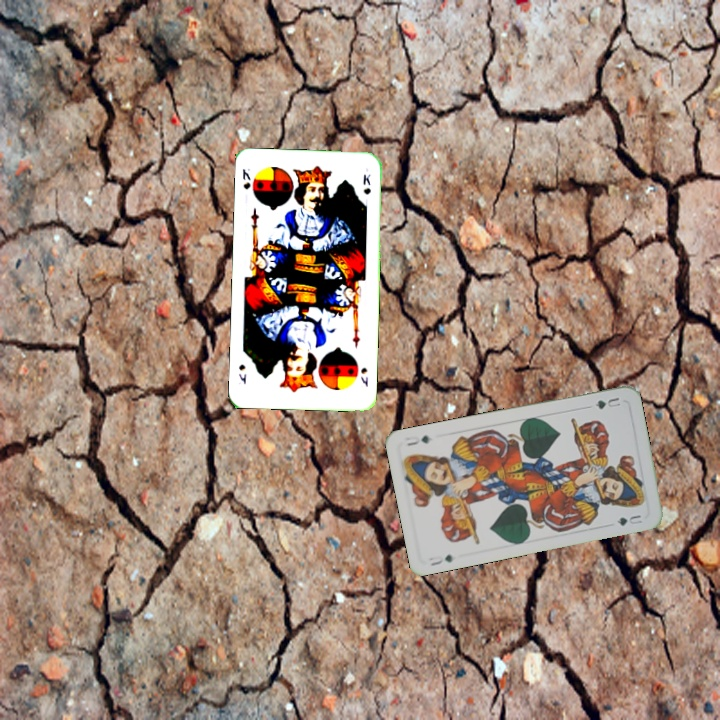GU: (591, 393, 624, 412), (426, 550, 455, 568)
SK: (239, 165, 253, 192), (357, 363, 370, 390)
